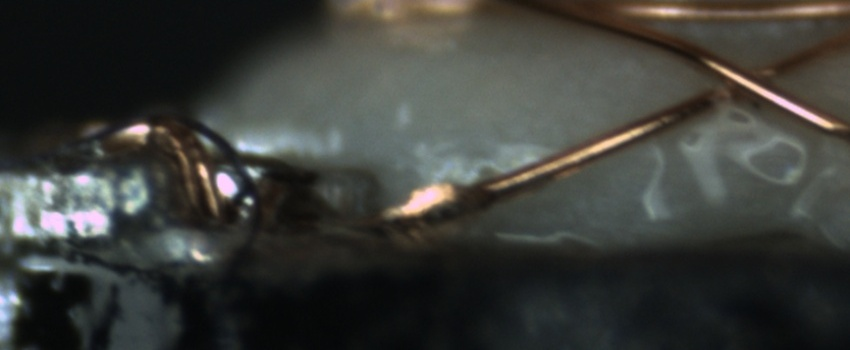CL: (674, 43, 809, 127)
TE: (135, 116, 230, 232)
